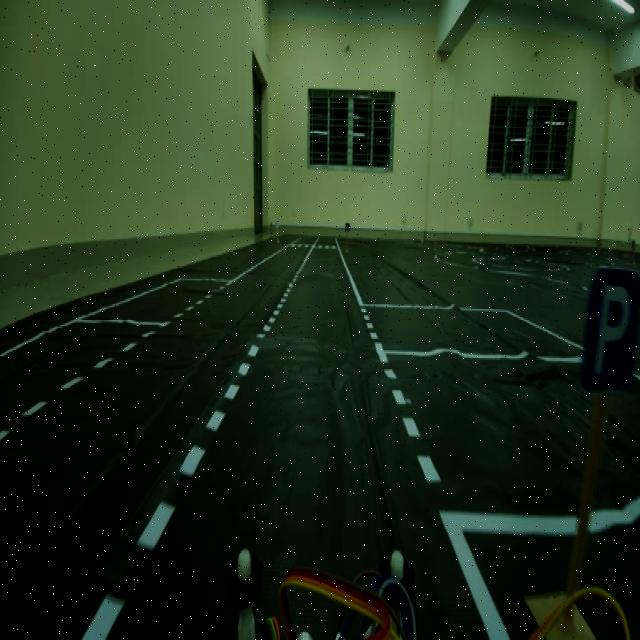parking: (581, 263, 636, 396)
